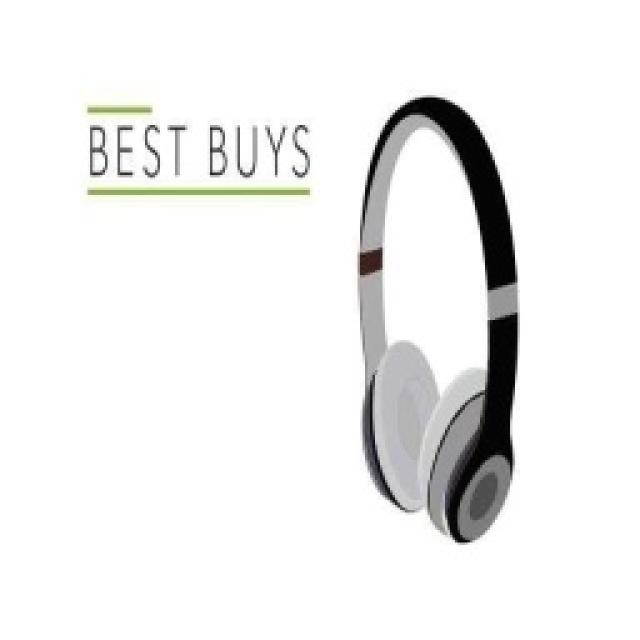headphones: (355, 92, 517, 542)
